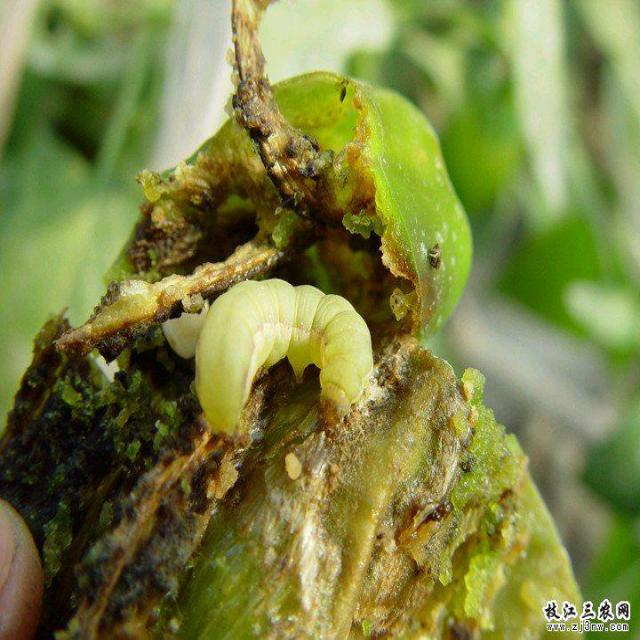BeetArmyWorm-Larva-: (186, 266, 382, 449)
